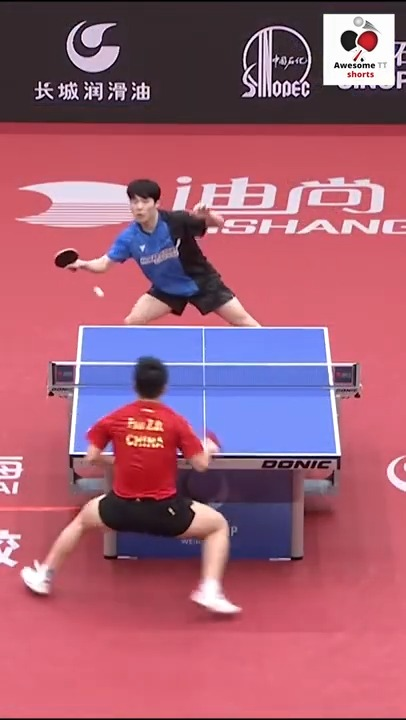Ball: (93, 286, 106, 301)
